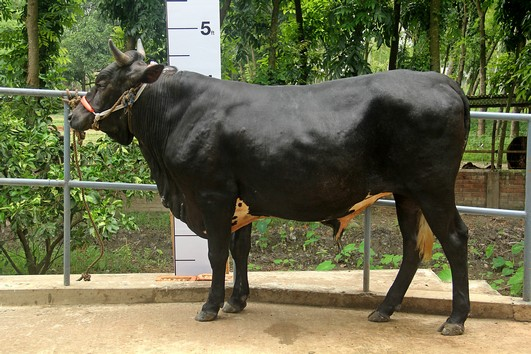cow: (69, 28, 477, 338)
